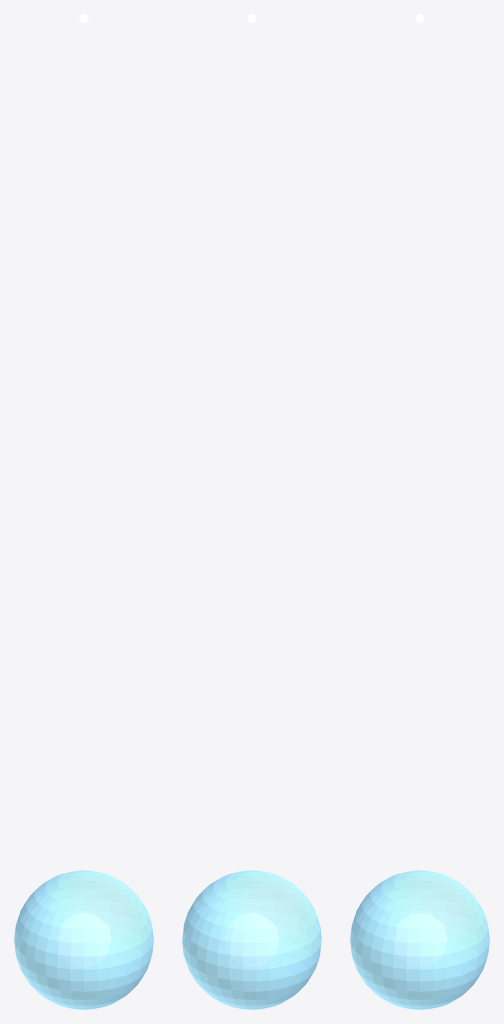
3 renders of one model, left to right at view 1: azimuth 90°, elevation 25°; view 2: azimuth 150°, elevation 25°; view 3: azimuth 270°, elevation 25°, orthographic.
Visible parts, largest first — view 1: SeedShell, FilamentCore; view 2: SeedShell, FilamentCore; view 3: SeedShell, FilamentCore.
Part boxes in pixels (x1,y1,x2,y2): SeedShell: (14, 870, 153, 1009); FilamentCore: (56, 913, 111, 967); SeedShell: (182, 870, 321, 1009); FilamentCore: (225, 913, 278, 967); SeedShell: (350, 870, 489, 1009); FilamentCore: (392, 914, 447, 966).
Bounding box in the file's own units: 0.165 × 1.29 × 0.165.
